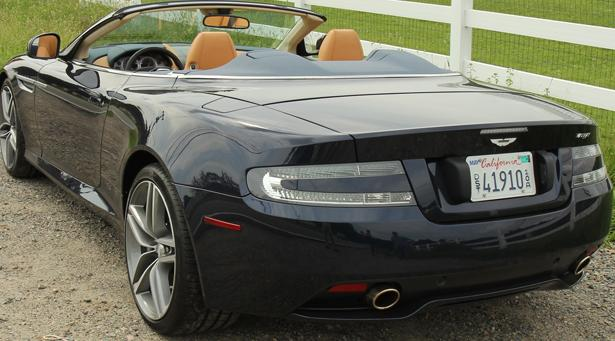back_view: (172, 117, 612, 319)
backlight: (239, 149, 422, 218)
